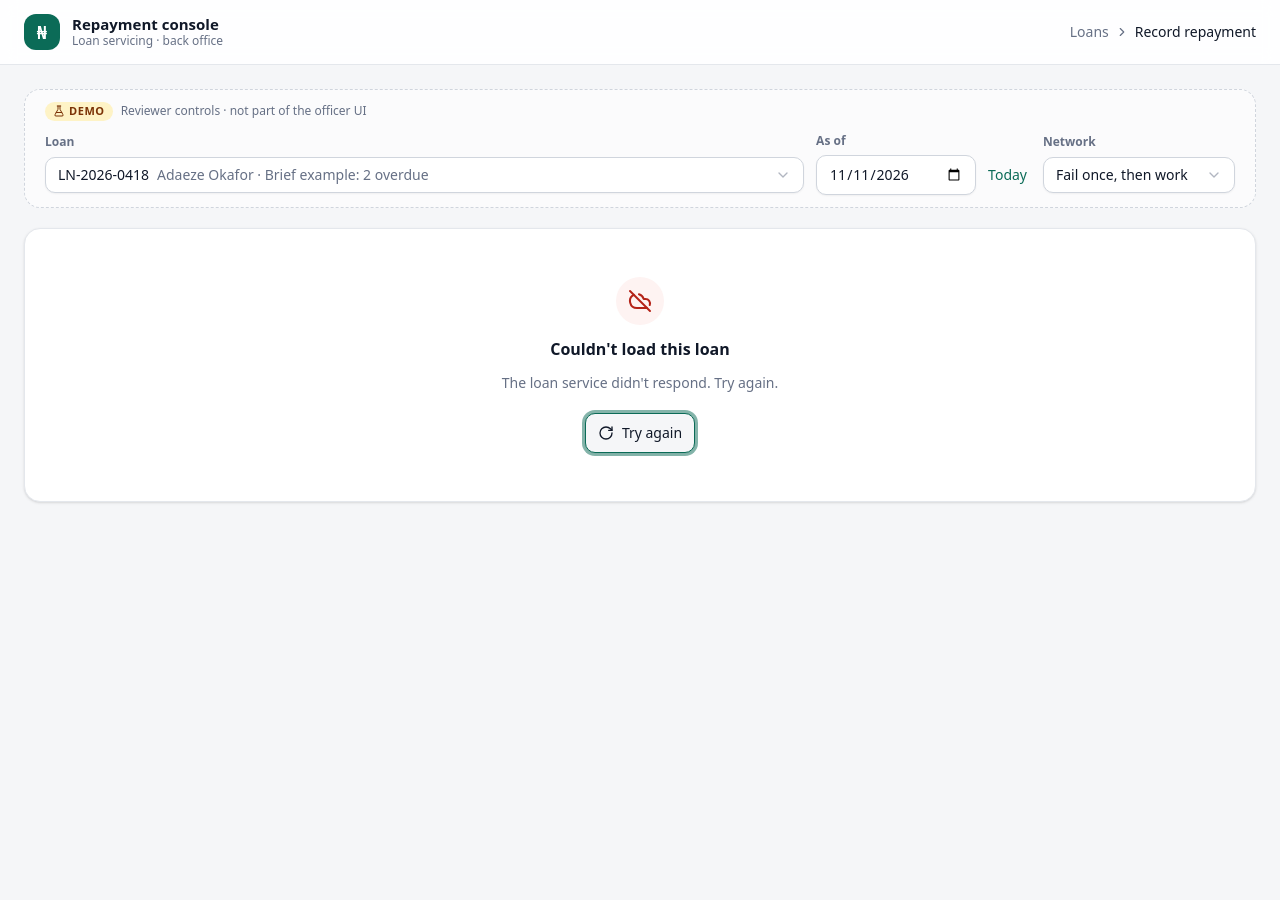
it: Network states › shows an error with a retry that works
Check: the text "Couldn't load this loan" is shown, box [550,337,730,361]
Click the button "Try again" at (640, 433), box [585,413,695,453]
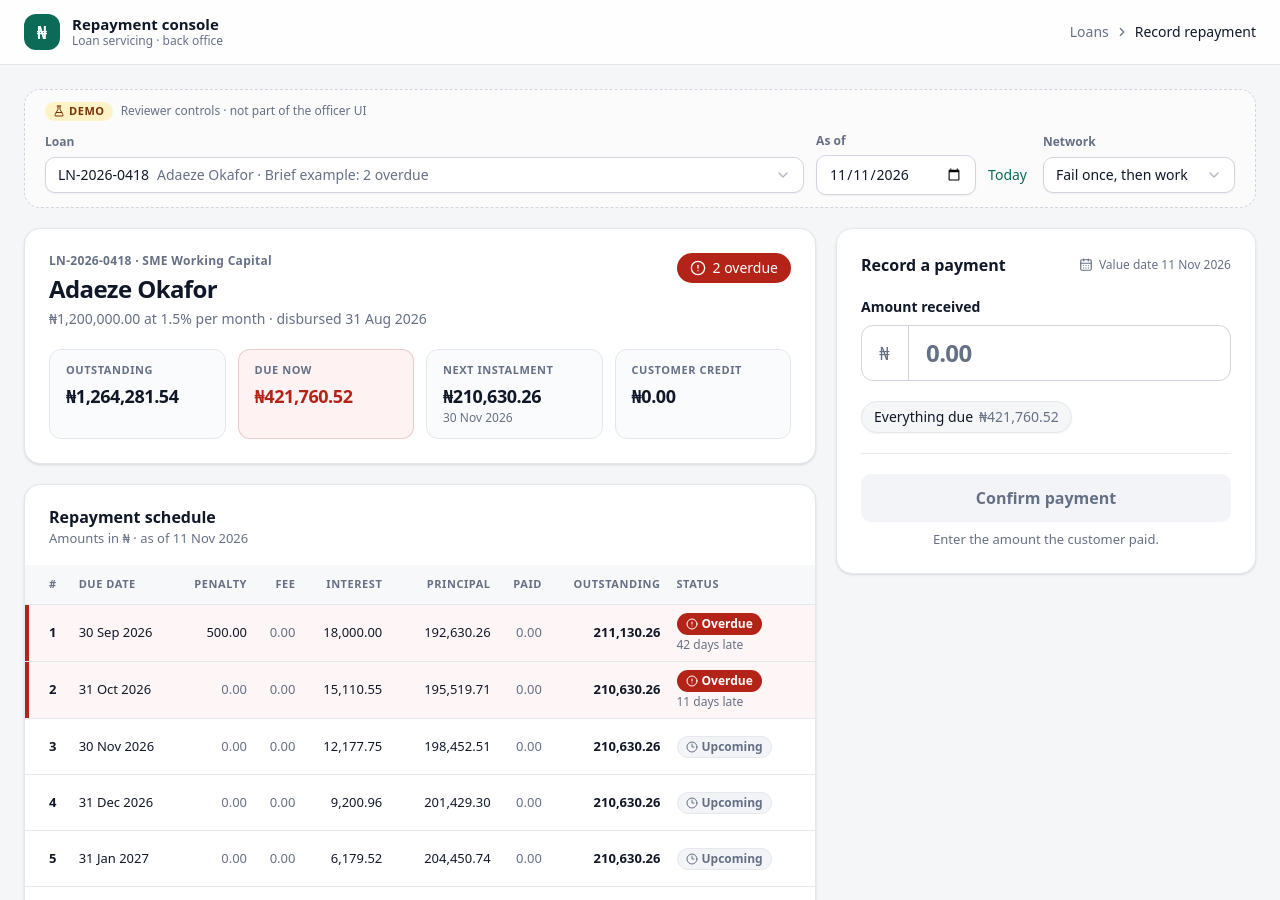
Check: the heading "Adaeze Okafor" is shown, box [49,272,217,305]
